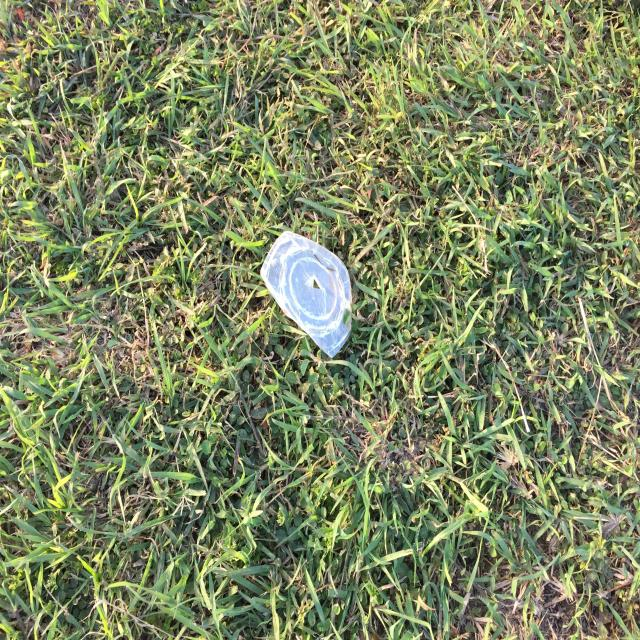litter: (258, 227, 355, 365)
